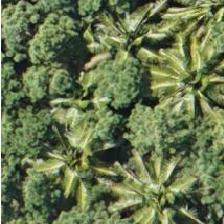coconut_tree: (26, 116, 116, 206), (82, 0, 172, 82), (147, 36, 223, 126), (111, 151, 201, 223), (176, 0, 223, 46)
